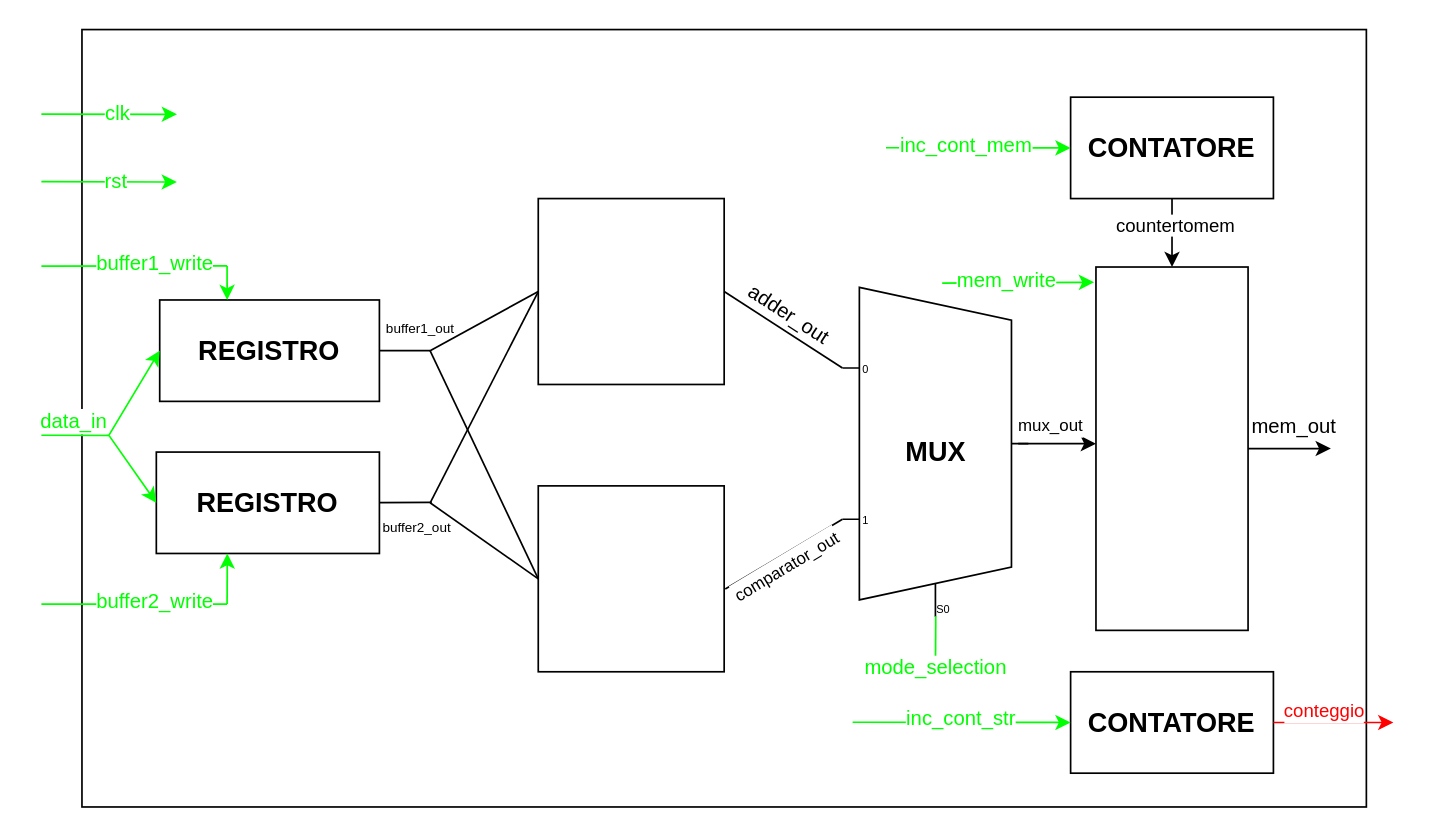
Some shapes in this 1437 by 837 pixel diagram are drawn without their labels. Each missing label, with the box of its shape:
COMPARATORE: (537, 484, 724, 672)
MEMORY: (1094, 265, 1248, 630)
SOMMATORE: (537, 197, 724, 384)
